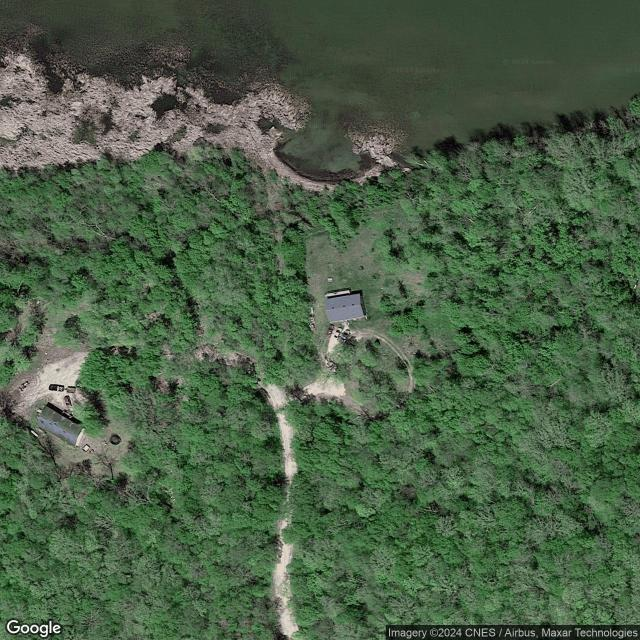Propane: (30, 430, 39, 438), (310, 306, 314, 314)
